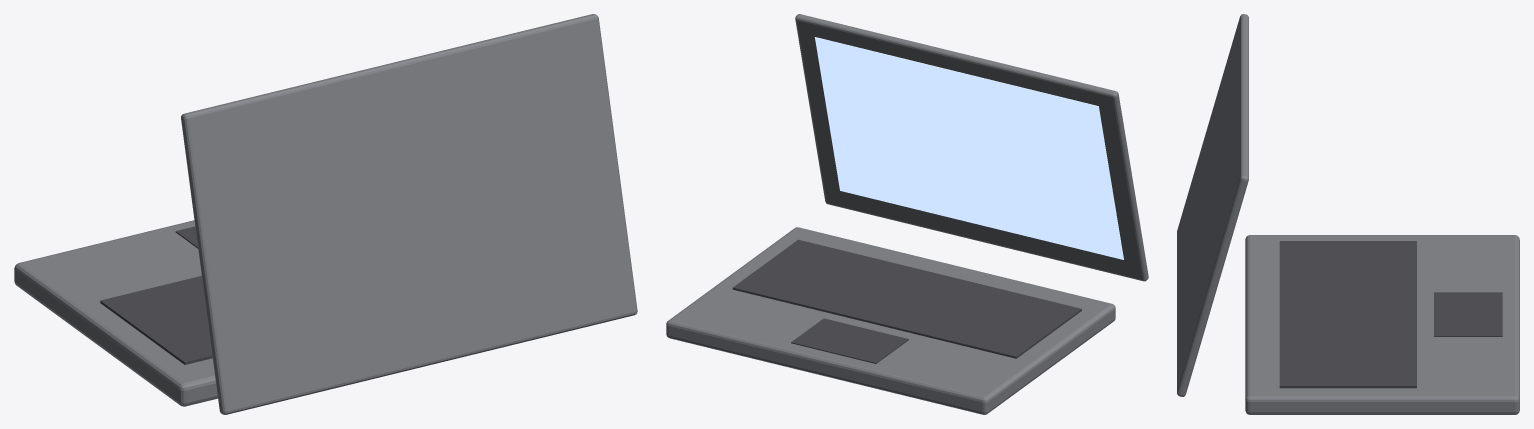
Rendered from s17-laptop.glb.
The picture shows the model from 3 angles, left to right: view 1: azimuth 30°, elevation 25°; view 2: azimuth 150°, elevation 25°; view 3: azimuth 270°, elevation 25°; orthographic projection. The views are drawn at different scales.
Parts seen in each view (by area): view 1: EX_unri:laptop-badan, EX_unri:keyboard; view 2: EX_unri:laptop-badan, EX_unri:layar-emisif, EX_unri:keyboard; view 3: EX_unri:laptop-badan, EX_unri:keyboard.
Part boxes in pixels (x1,y1,x2,y2): EX_unri:laptop-badan: (14, 14, 637, 414); EX_unri:keyboard: (100, 226, 212, 364); EX_unri:laptop-badan: (666, 14, 1148, 414); EX_unri:layar-emisif: (815, 37, 1123, 259); EX_unri:keyboard: (732, 239, 1081, 363); EX_unri:laptop-badan: (1177, 14, 1519, 414); EX_unri:keyboard: (1279, 241, 1502, 388).
Bounding box in the file's own units: 0.34 × 0.2309 × 0.2997.
